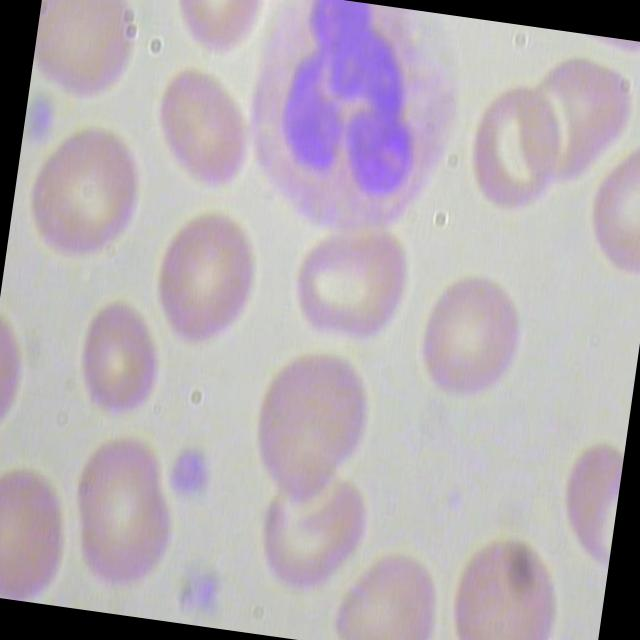Platelets: (158, 433, 226, 515), (162, 551, 223, 628), (22, 92, 55, 146)
RBC: (238, 340, 384, 513), (58, 426, 190, 600), (13, 117, 148, 281), (408, 271, 544, 424), (284, 218, 419, 371), (144, 204, 278, 357), (451, 79, 571, 230), (26, 0, 160, 125), (146, 54, 260, 198), (438, 524, 573, 640), (0, 450, 83, 607), (322, 540, 449, 640), (69, 301, 168, 428), (574, 139, 640, 288)
WBC: (229, 0, 485, 255)
